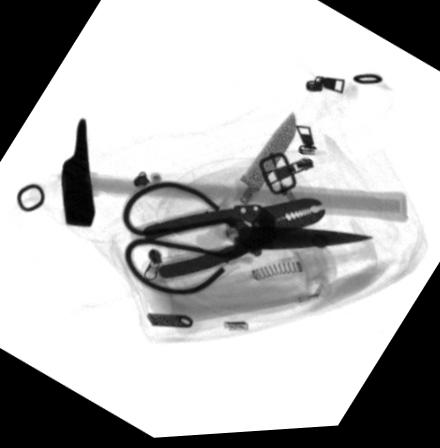Hammer: (60, 117, 408, 227)
Knife: (194, 114, 296, 253)
Pliers: (130, 201, 325, 282)
Scissors: (121, 182, 374, 297)
